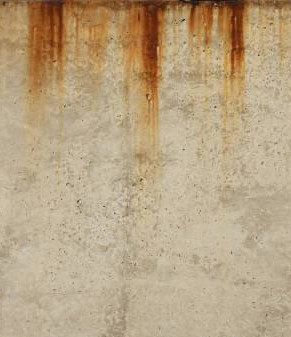Corrosion: (121, 1, 167, 162), (25, 1, 65, 134), (75, 1, 113, 77), (219, 1, 244, 115), (187, 1, 214, 54)
